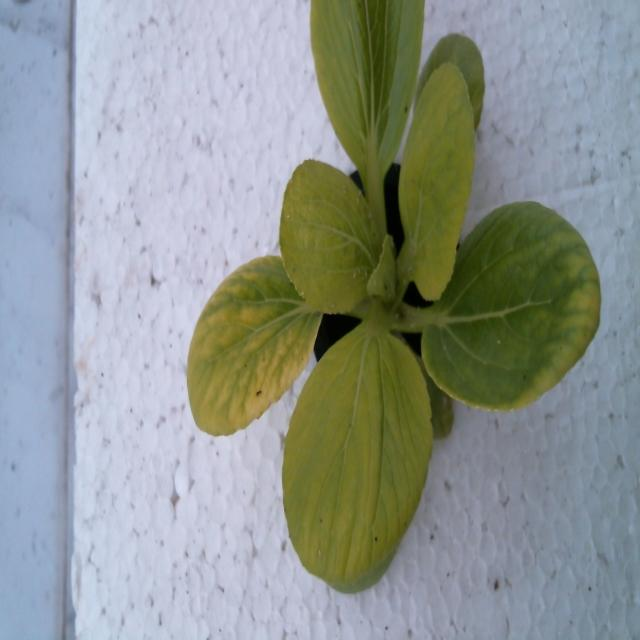pakcoy_tidak_sehat: (167, 0, 607, 601)
